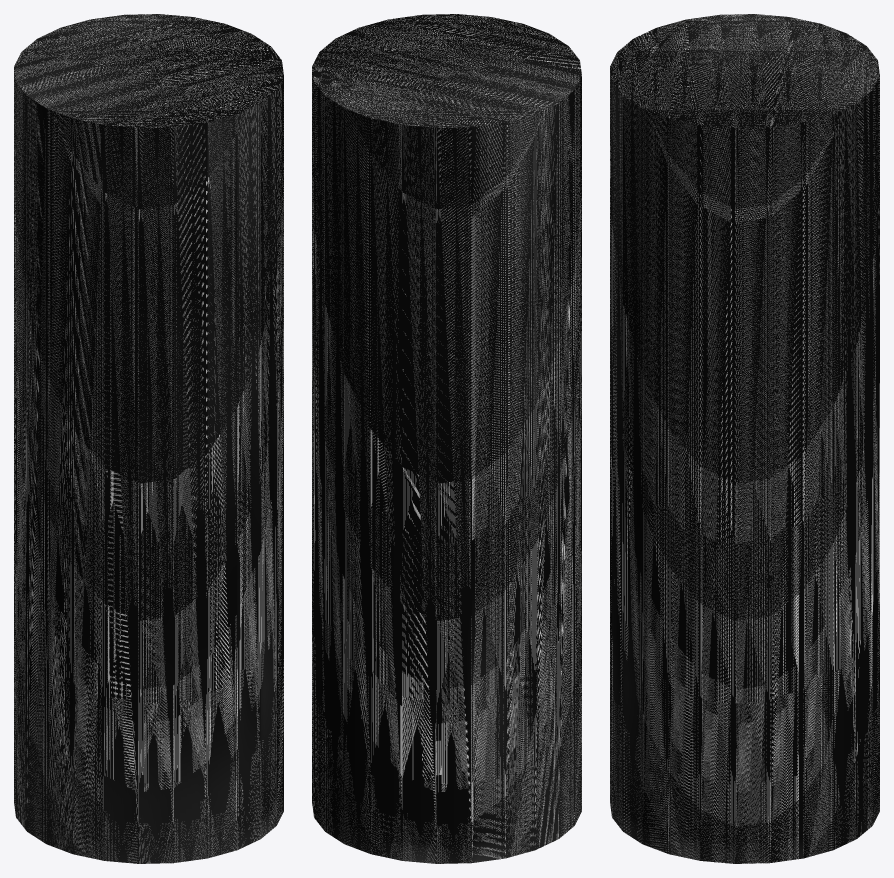
The model's file is original-34.obj.
The picture shows the model from 3 angles, left to right: view 1: azimuth 30°, elevation 25°; view 2: azimuth 150°, elevation 25°; view 3: azimuth 270°, elevation 25°; orthographic projection.
Visible parts, largest first — view 1: Component_8_2/Component_8/mesh17/mesh17-geometry#mesh17-geometry; view 2: Component_8_2/Component_8/mesh17/mesh17-geometry#mesh17-geometry; view 3: Component_8_2/Component_8/mesh17/mesh17-geometry#mesh17-geometry.
Part boxes in pixels (x1,y1,x2,y2): Component_8_2/Component_8/mesh17/mesh17-geometry#mesh17-geometry: [14, 14, 283, 863]; Component_8_2/Component_8/mesh17/mesh17-geometry#mesh17-geometry: [312, 14, 581, 863]; Component_8_2/Component_8/mesh17/mesh17-geometry#mesh17-geometry: [610, 14, 879, 863].
Size of the model in its own units: 0.00655 by 0.0197 by 0.00656.
